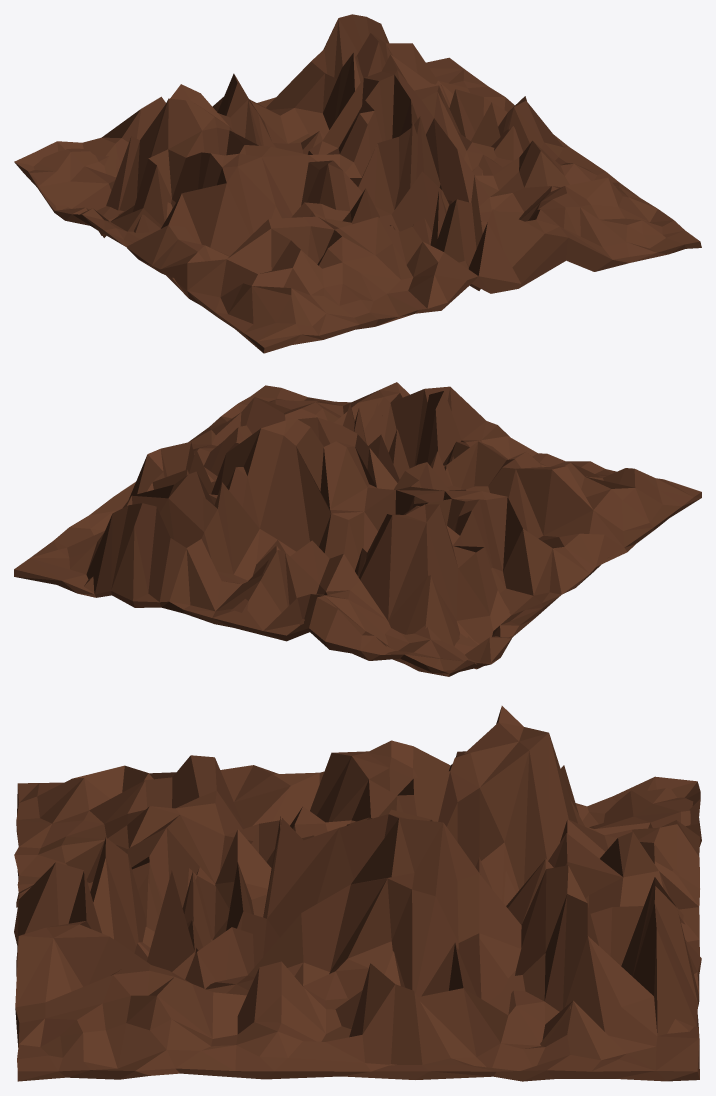
File: terrain.fbx
3 views of the same model, one above another, from view 1: azimuth 30°, elevation 25°; view 2: azimuth 150°, elevation 25°; view 3: azimuth 270°, elevation 25° (orthographic). The views are drawn at different scales.
Visible parts, largest first — view 1: Plane; view 2: Plane; view 3: Plane.
Part boxes in pixels (x1,y1,x2,y2): Plane: (14,14,701,353); Plane: (14,382,701,676); Plane: (14,706,701,1081).
Bounding box in the file's own units: 4028 × 1256 × 4038.
